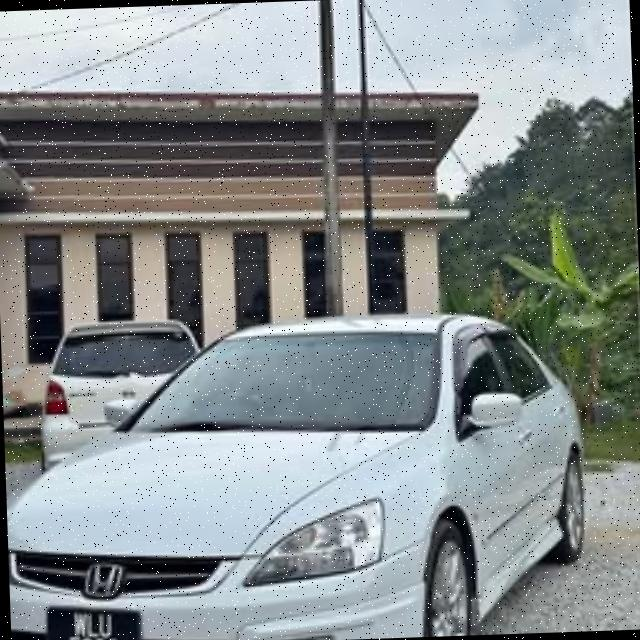License_Plate: (43, 600, 142, 640)
car: (1, 306, 590, 640)
